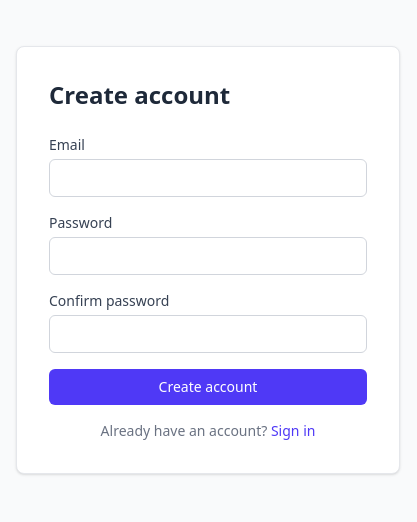
RegisterPage › shows a server error when email is already taken
Type "taken@example.com" into the field labelled "Email" at [208, 178], box left=49, top=159, right=367, bottom=197
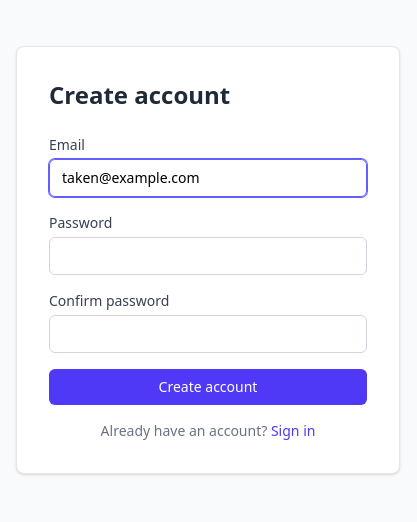
Type "password123" into the password field labelled "Password" at [208, 256], box left=49, top=237, right=367, bottom=275
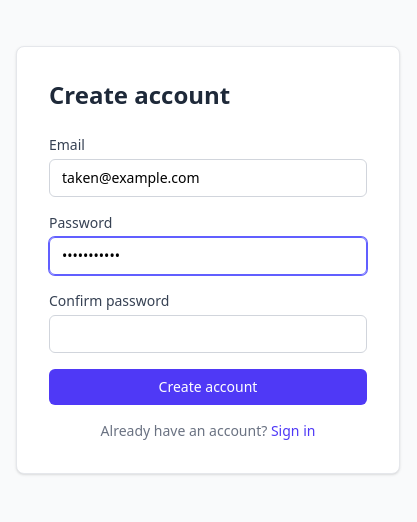
Type "password123" into the password field labelled "Confirm password" at [208, 334], box left=49, top=315, right=367, bottom=353
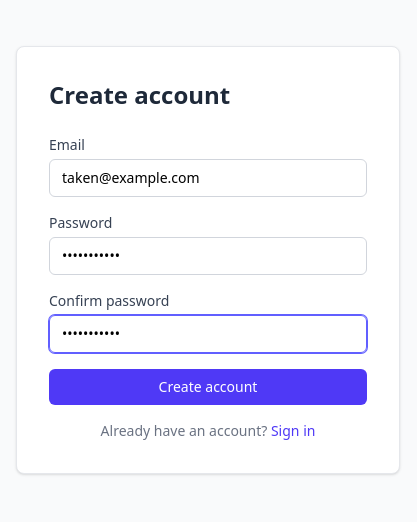
Click the button "Create account" at [208, 387], box left=49, top=369, right=367, bottom=405
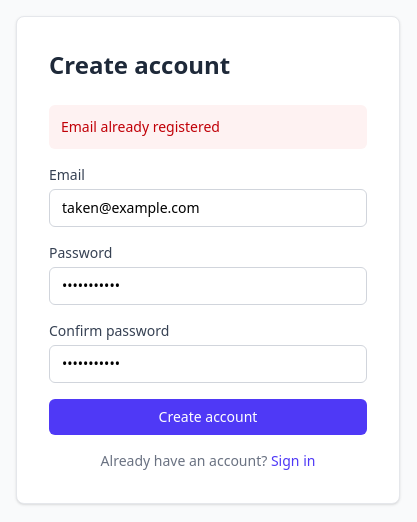
Check: the message "Email already registered" is shown, box left=49, top=105, right=367, bottom=149
